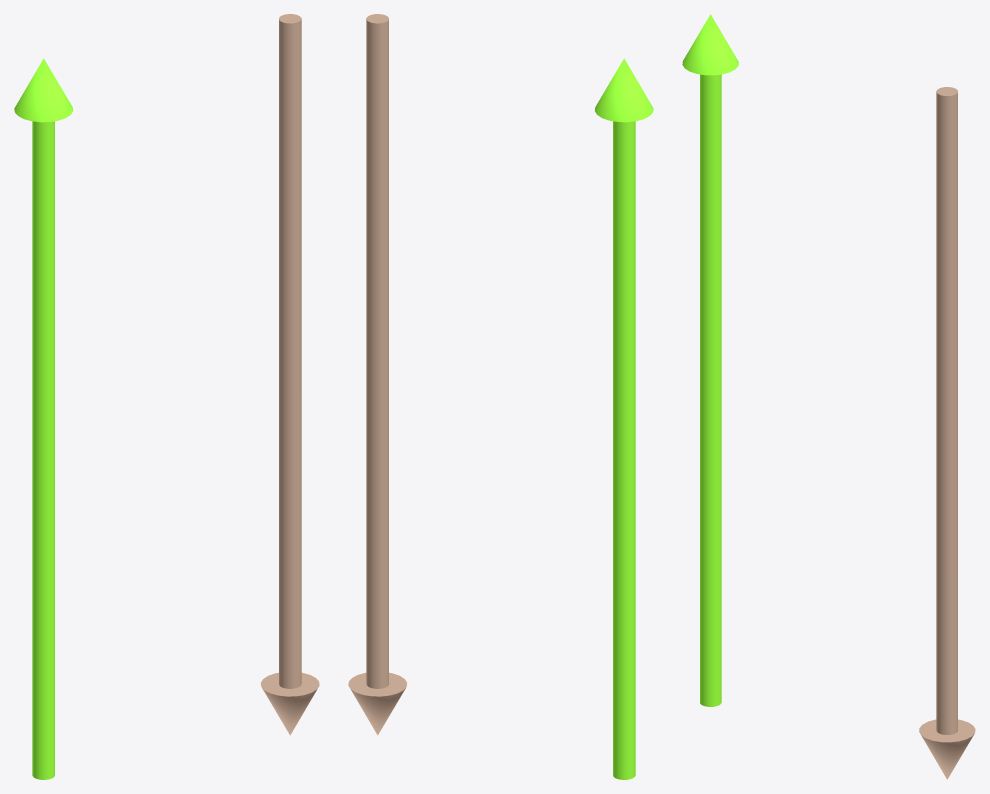
File: air_preheater_flow.glb
3 renders of one model, left to right at view 1: azimuth 30°, elevation 25°; view 2: azimuth 150°, elevation 25°; view 3: azimuth 330°, elevation 25°, orthographic. The views are drawn at different scales.
Visible parts, largest first — view 1: air, flue_gas; view 2: air, flue_gas; view 3: air, flue_gas.
Part boxes in pixels (x1,y1,x2,y2): air: (14,58,72,779); flue_gas: (261,14,319,735); air: (595,58,653,779); flue_gas: (348,14,406,735); air: (682,14,738,706); flue_gas: (919,87,975,779).
Bounding box in the file's own units: 1.21 × 2.86 × 0.208.
